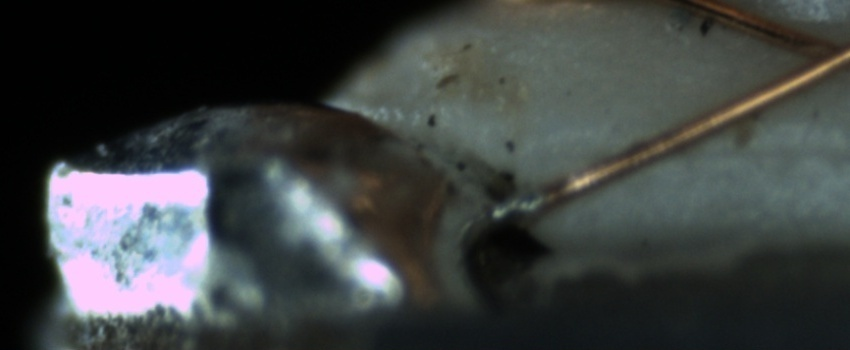CL: (769, 11, 848, 87)
DL: (617, 114, 850, 184)
TS: (491, 187, 547, 221)
